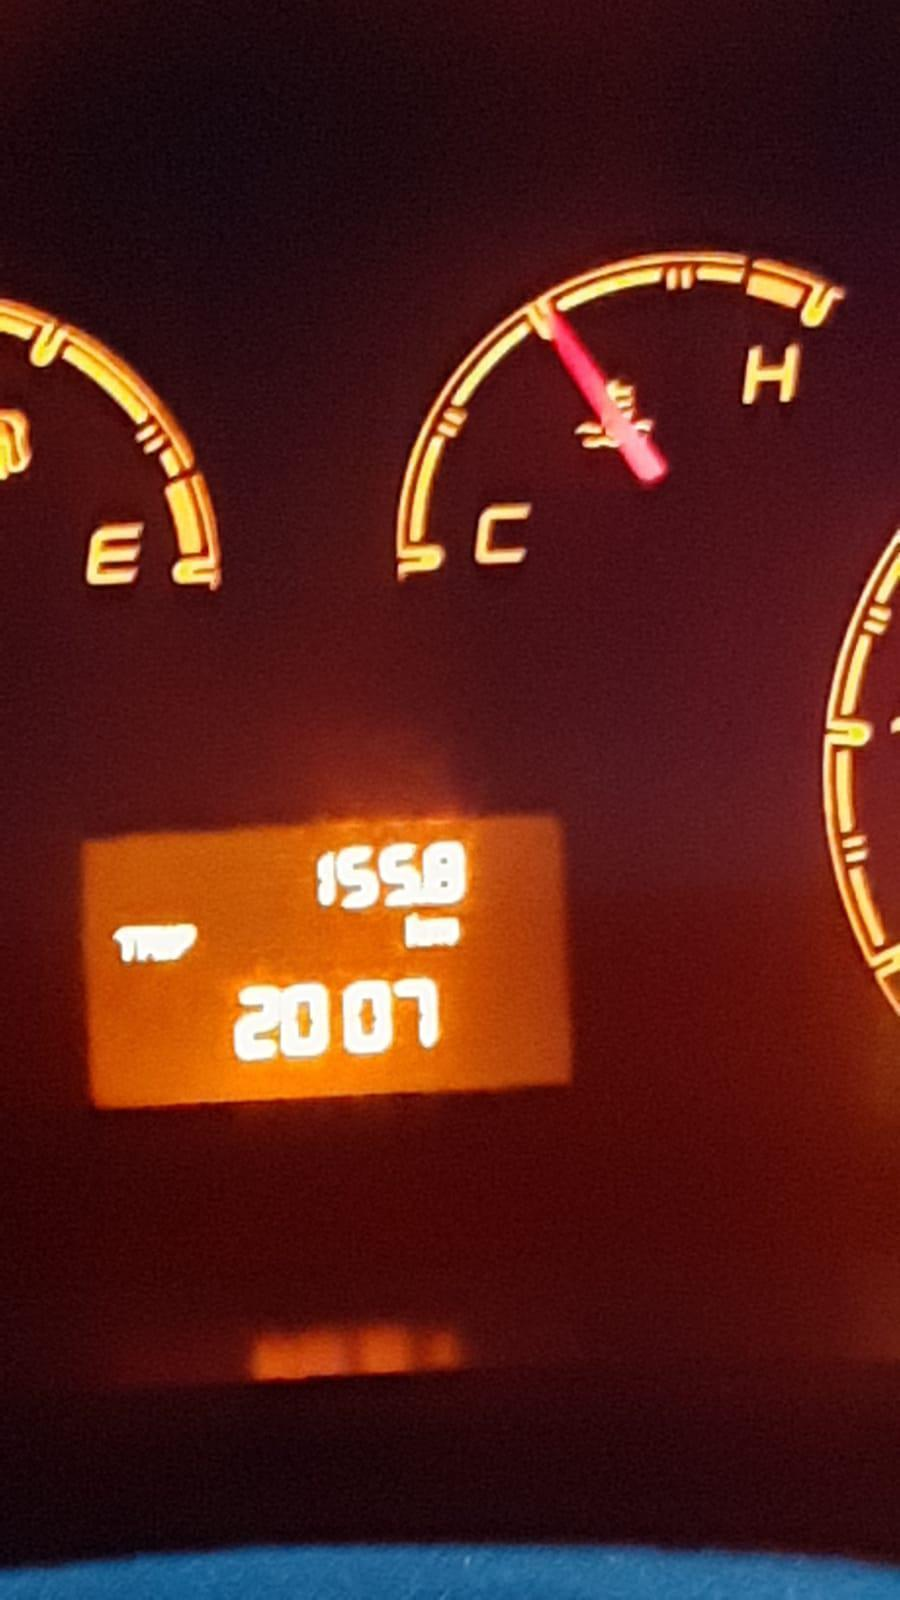0: (338, 977, 395, 1057), (280, 980, 331, 1059)
1: (313, 849, 337, 907)
2: (232, 984, 281, 1063)
5: (337, 844, 379, 911), (379, 842, 421, 907)
7: (393, 975, 443, 1051)
8: (420, 840, 469, 904)
X: (429, 914, 462, 947), (173, 922, 197, 963), (403, 912, 429, 949), (137, 924, 160, 965), (113, 925, 135, 964), (160, 923, 173, 966)
odometer: (73, 805, 580, 1119)
